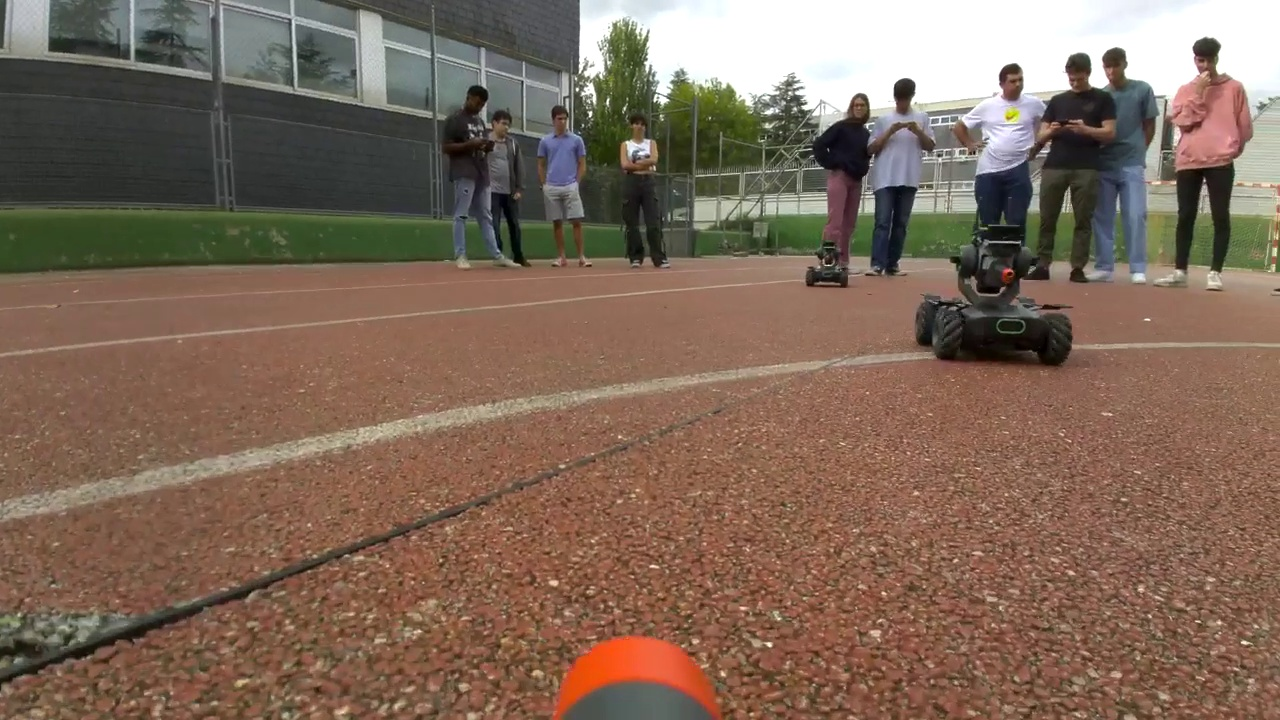robot: (916, 226, 1072, 363), (806, 241, 849, 285)
